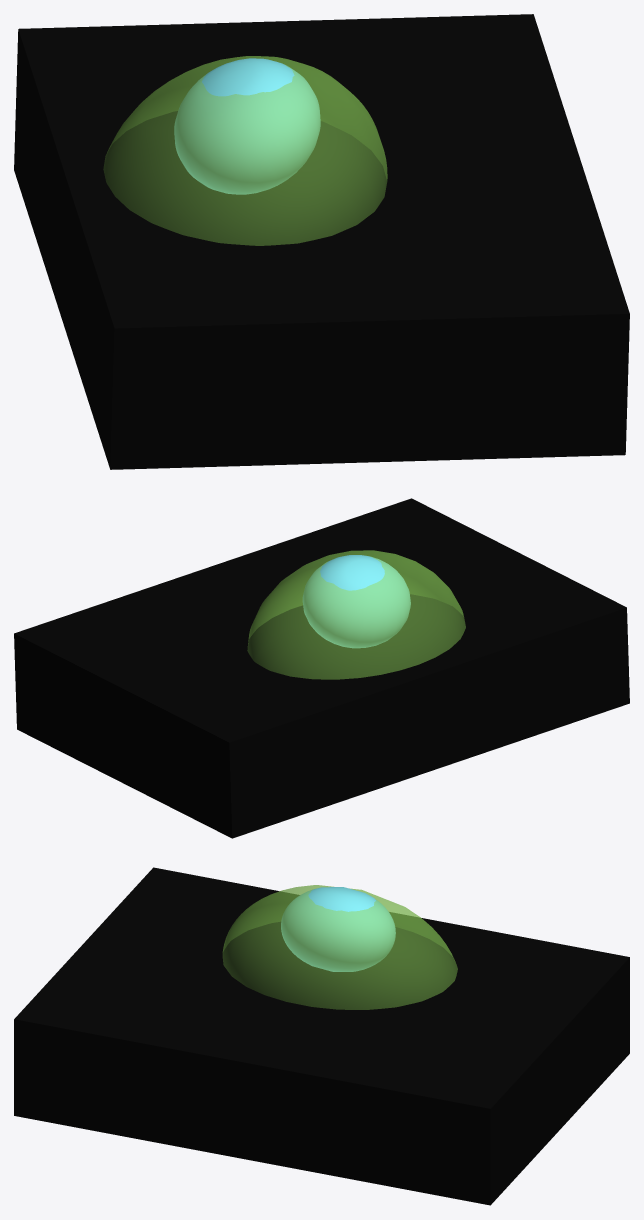
The model's file is morse code hologram puzzle lock base when hologram is off.fbx.
The picture shows the model from 3 angles, top to bottom: view 1: azimuth 30°, elevation 25°; view 2: azimuth 150°, elevation 25°; view 3: azimuth 270°, elevation 25°; orthographic projection. The views are drawn at different scales.
Visible parts, largest first — view 1: c2a86d92-97f2-4865-8e7a-ae9b582d9ed0; view 2: c2a86d92-97f2-4865-8e7a-ae9b582d9ed0; view 3: c2a86d92-97f2-4865-8e7a-ae9b582d9ed0.
Boxes of the visible parts, box(x1,y1,x2,y2) form: c2a86d92-97f2-4865-8e7a-ae9b582d9ed0: box(14, 14, 629, 469); c2a86d92-97f2-4865-8e7a-ae9b582d9ed0: box(14, 498, 629, 838); c2a86d92-97f2-4865-8e7a-ae9b582d9ed0: box(14, 867, 629, 1205).
Size of the model in its own units: 66056 by 24805 by 75783.
